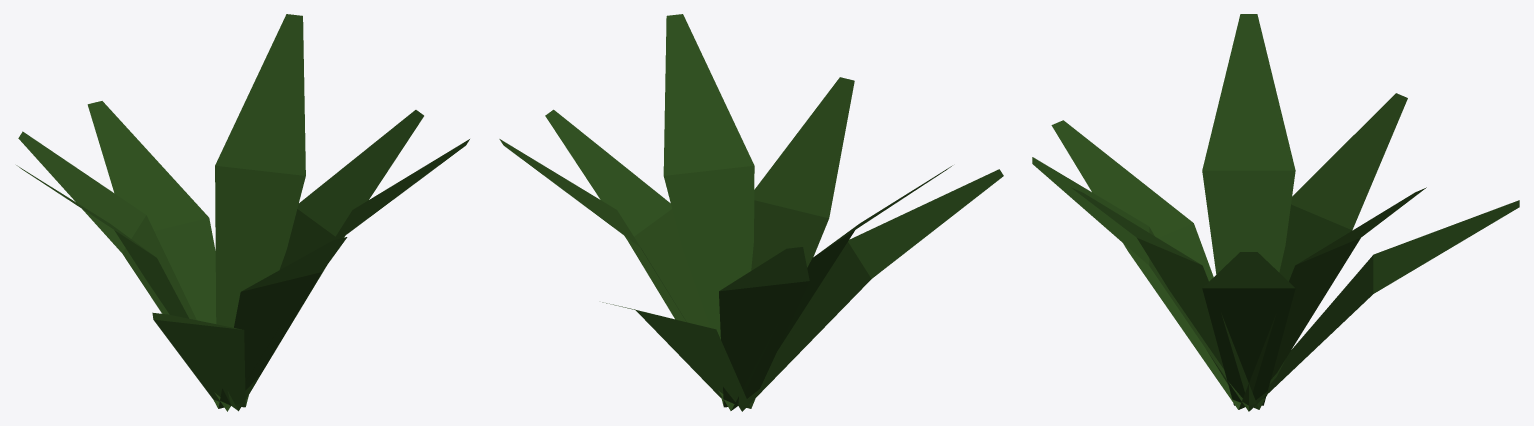
The model's file is perennial-rosette.lod1.glb.
The picture shows the model from 3 angles, left to right: view 1: azimuth 30°, elevation 25°; view 2: azimuth 150°, elevation 25°; view 3: azimuth 270°, elevation 25°; orthographic projection.
Visible parts, largest first — view 1: perennial-rosette-leaves; view 2: perennial-rosette-leaves; view 3: perennial-rosette-leaves.
Part boxes in pixels (bbox=[...]): perennial-rosette-leaves: bbox=[16, 14, 469, 411]; perennial-rosette-leaves: bbox=[499, 14, 1003, 411]; perennial-rosette-leaves: bbox=[1032, 14, 1519, 411].
Size of the model in its own units: 0.4335 by 0.3 by 0.459.
